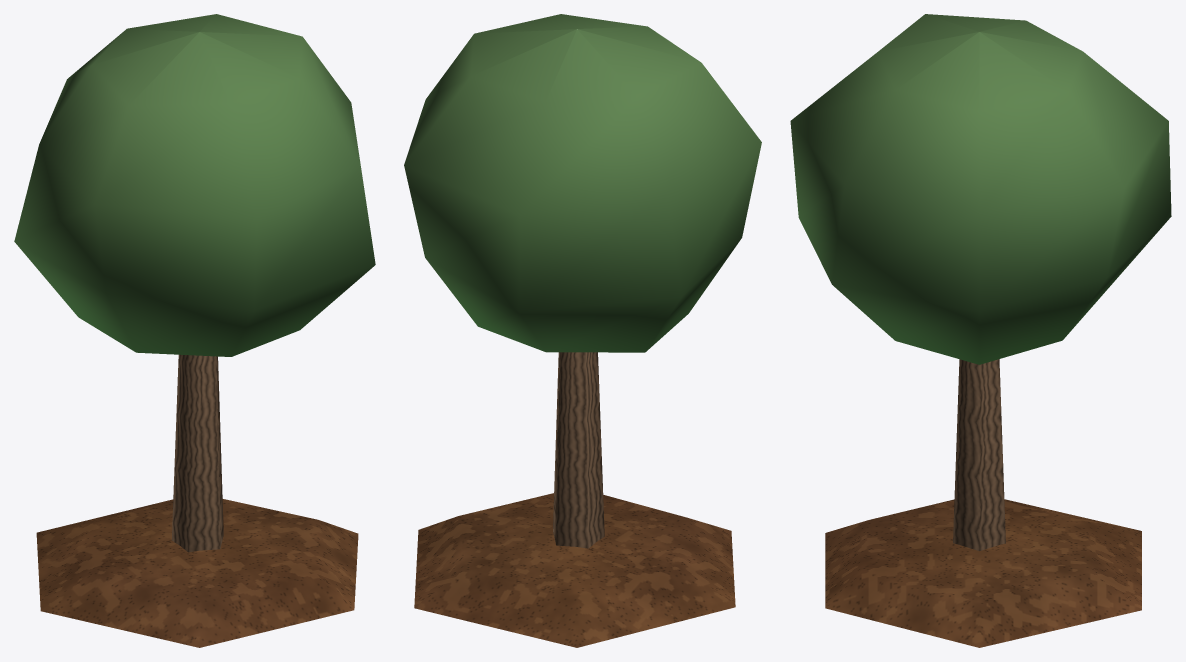
The model's file is plant-apple-2-far.glb.
3 views of the same model, side by side, from view 1: azimuth 30°, elevation 25°; view 2: azimuth 150°, elevation 25°; view 3: azimuth 270°, elevation 25° (orthographic).
Visible parts, largest first — view 1: plant-apple-2-far; view 2: plant-apple-2-far; view 3: plant-apple-2-far.
Part boxes in pixels (bbox=[...]): plant-apple-2-far: bbox=[14, 14, 375, 647]; plant-apple-2-far: bbox=[404, 14, 761, 647]; plant-apple-2-far: bbox=[790, 14, 1171, 647].
Size of the model in its own units: 1 by 1.62 by 1.04.
Materials: 3 (2 with a texture image).
